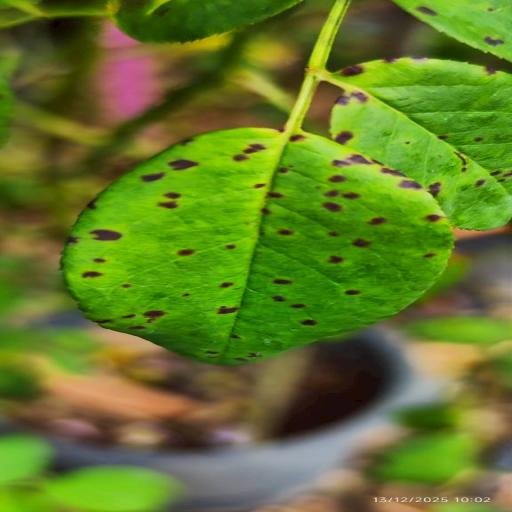black_spot: (62, 128, 452, 365), (326, 58, 511, 230)
